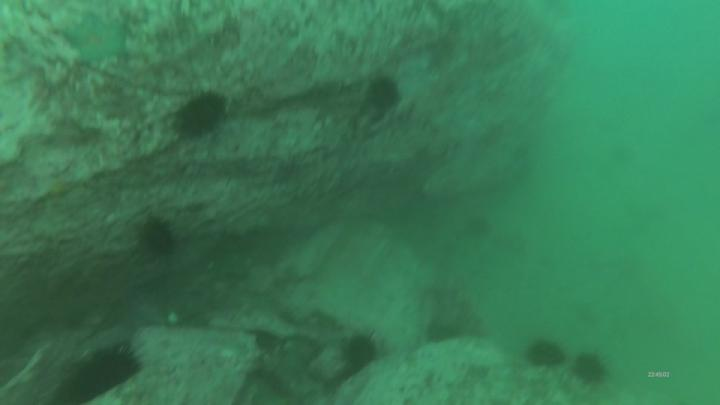echinus: (70, 341, 146, 395), (176, 88, 232, 139), (134, 214, 182, 263), (338, 326, 381, 370), (570, 350, 609, 394), (363, 76, 409, 113), (523, 336, 569, 372)
